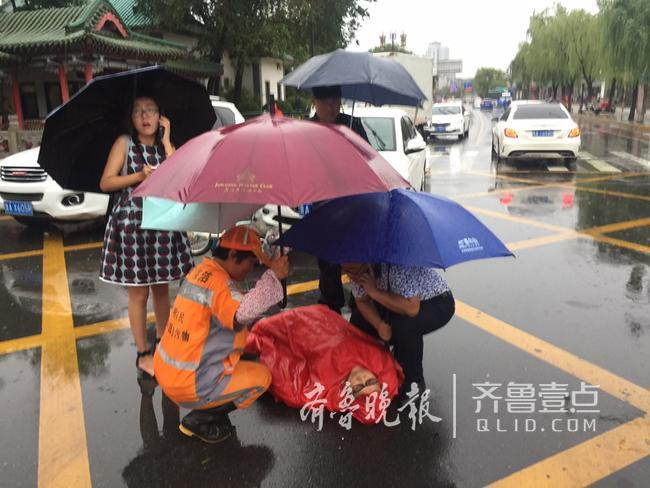fall: (244, 299, 409, 436)
